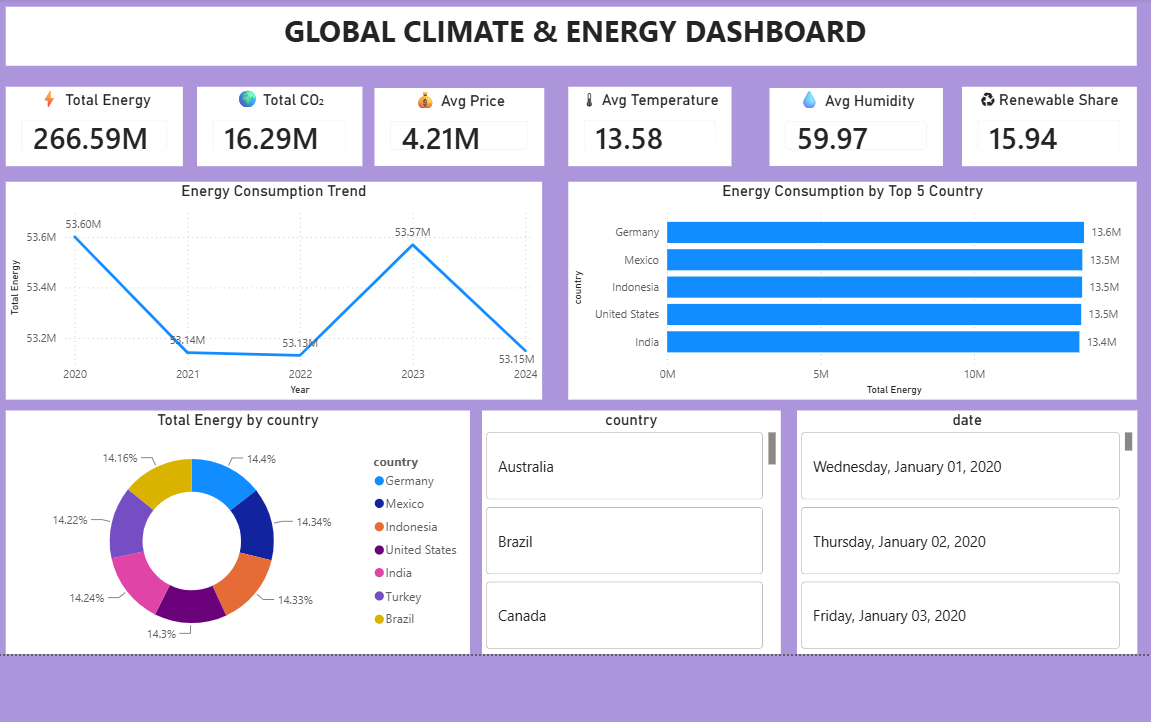

The page's visual inventory and layout, read from the dashboard file:
{"tool":"powerbi","page":{"name":" GLOBAL CLIMATE & ENERGY DASHBOARD","canvas":[1280,720],"ordinal":0},"visuals":[{"type":"textbox","box":[10,10,1241.6,64.4],"z":0},{"type":"cardVisual","title":"⚡ Total Energy","fields":{"Data":["global_climate_energy_2020_2024.Total Energy"]},"box":[10,97.4,194.8,87.4],"z":1000},{"type":"cardVisual","title":"🌍 Total CO₂","fields":{"Data":["global_climate_energy_2020_2024.Total CO2"]},"box":[219.1,97.4,181.9,87.4],"z":2000},{"type":"cardVisual","title":"💰 Avg Price","fields":{"Data":["Sum(global_climate_energy_2020_2024.energy_price)"]},"box":[413.9,98.8,186.2,85.9],"z":3000},{"type":"cardVisual","title":"🌡 Avg Temperature","fields":{"Data":["global_climate_energy_2020_2024.Avg Temperature"]},"box":[627.3,97.4,179,87.4],"z":4000},{"type":"cardVisual","title":"💧 Avg Humidity","fields":{"Data":["global_climate_energy_2020_2024.Avg Humidity"]},"box":[847.8,98.8,190.5,85.9],"z":5000},{"type":"cardVisual","title":"♻ Renewable Share","fields":{"Data":["global_climate_energy_2020_2024.Renewable Share"]},"box":[1059.7,97.4,191.9,87.4],"z":6000},{"type":"lineChart","title":"Energy Consumption Trend","fields":{"Category":["global_climate_energy_2020_2024.date.Variation.Date Hierarchy.Year","global_climate_energy_2020_2024.date.Variation.Date Hierarchy.Quarter","global_climate_energy_2020_2024.date.Variation.Date Hierarchy.Month","global_climate_energy_2020_2024.date.Variation.Date Hierarchy.Day"],"Y":["global_climate_energy_2020_2024.Total Energy"]},"box":[10,201.9,588.6,239.2],"z":7000},{"type":"clusteredBarChart","title":"Energy Consumption by  Top 5 Country","fields":{"Category":["global_climate_energy_2020_2024.country"],"Y":["global_climate_energy_2020_2024.Total Energy"]},"box":[627.3,201.9,624.4,239.2],"z":8000},{"type":"donutChart","fields":{"Category":["global_climate_energy_2020_2024.country"],"Y":["global_climate_energy_2020_2024.Total Energy"]},"box":[10,452.5,509.8,267.8],"z":9000},{"type":"advancedSlicerVisual","fields":{"Values":["global_climate_energy_2020_2024.country"]},"box":[532.7,452.5,327.9,267.8],"z":10000},{"type":"advancedSlicerVisual","fields":{"Values":["global_climate_energy_2020_2024.date"]},"box":[877.9,452.5,373.8,267.8],"z":11000}]}

Visuals, with their boxes in screenshot pixels (x1, y1, x2, y2):
textbox: box=[0, 3, 1139, 62]
"⚡ Total Energy" cardVisual: box=[0, 84, 176, 164]
"🌍 Total CO₂" cardVisual: box=[189, 84, 357, 164]
"💰 Avg Price" cardVisual: box=[369, 85, 540, 164]
"🌡 Avg Temperature" cardVisual: box=[565, 84, 729, 164]
"💧 Avg Humidity" cardVisual: box=[767, 85, 943, 164]
"♻ Renewable Share" cardVisual: box=[962, 84, 1139, 164]
"Energy Consumption Trend" lineChart: box=[0, 180, 538, 400]
"Energy Consumption by  Top 5 Country" clusteredBarChart: box=[565, 180, 1139, 400]
donutChart - global_climate_energy_2020_2024.country x global_climate_energy_2020_2024.Total Energy: box=[0, 410, 466, 656]
advancedSlicerVisual - global_climate_energy_2020_2024.country: box=[478, 410, 779, 656]
advancedSlicerVisual - global_climate_energy_2020_2024.date: box=[795, 410, 1139, 656]
